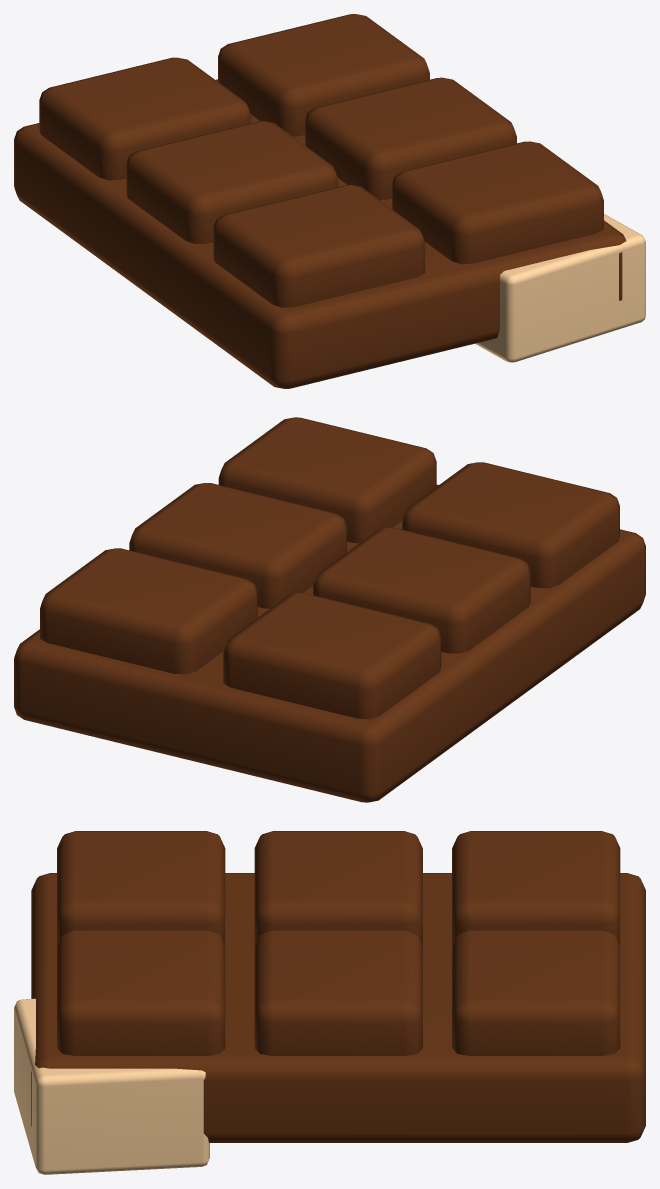
Rendered from chocolate.glb.
The picture shows the model from 3 angles, top to bottom: view 1: azimuth 30°, elevation 25°; view 2: azimuth 150°, elevation 25°; view 3: azimuth 270°, elevation 25°; orthographic projection. The views are drawn at different scales.
Parts seen in each view (by area): view 1: chocolate; view 2: chocolate; view 3: chocolate.
Boxes of the visible parts, x1=… form: chocolate: x1=14, y1=14, x2=645, y2=388; chocolate: x1=14, y1=417, x2=645, y2=802; chocolate: x1=14, y1=831, x2=645, y2=1174.
Size of the model in its own units: 0.7721 by 0.272 by 1.
Materials: 1 (1 with a texture image).
